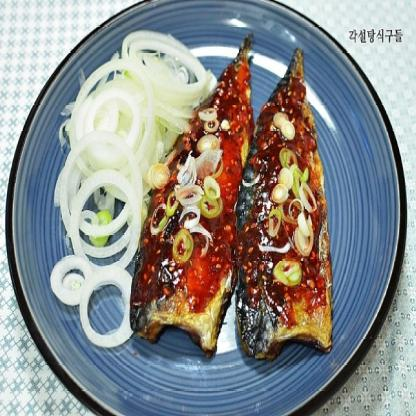Peixe: (128, 27, 349, 377)
